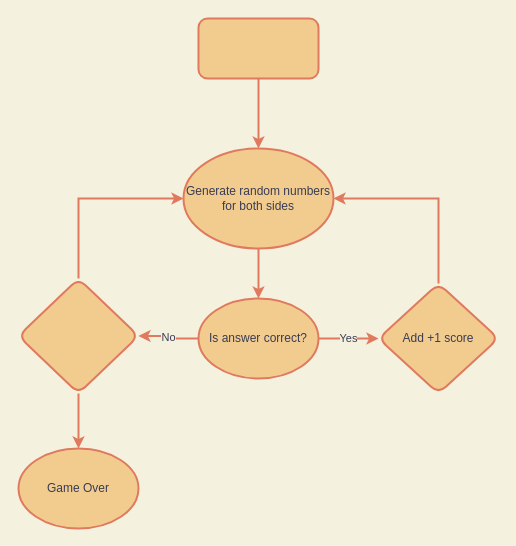
This 516x546 diagram has some shape labels left out. The shapes that lost their labels are listed below. From the top down, each one's box as (x1, y1, x2, y2) in pixels, then its label:
(197, 17, 319, 79): Start
(17, 277, 139, 394): -1 lives, if lives are 0
